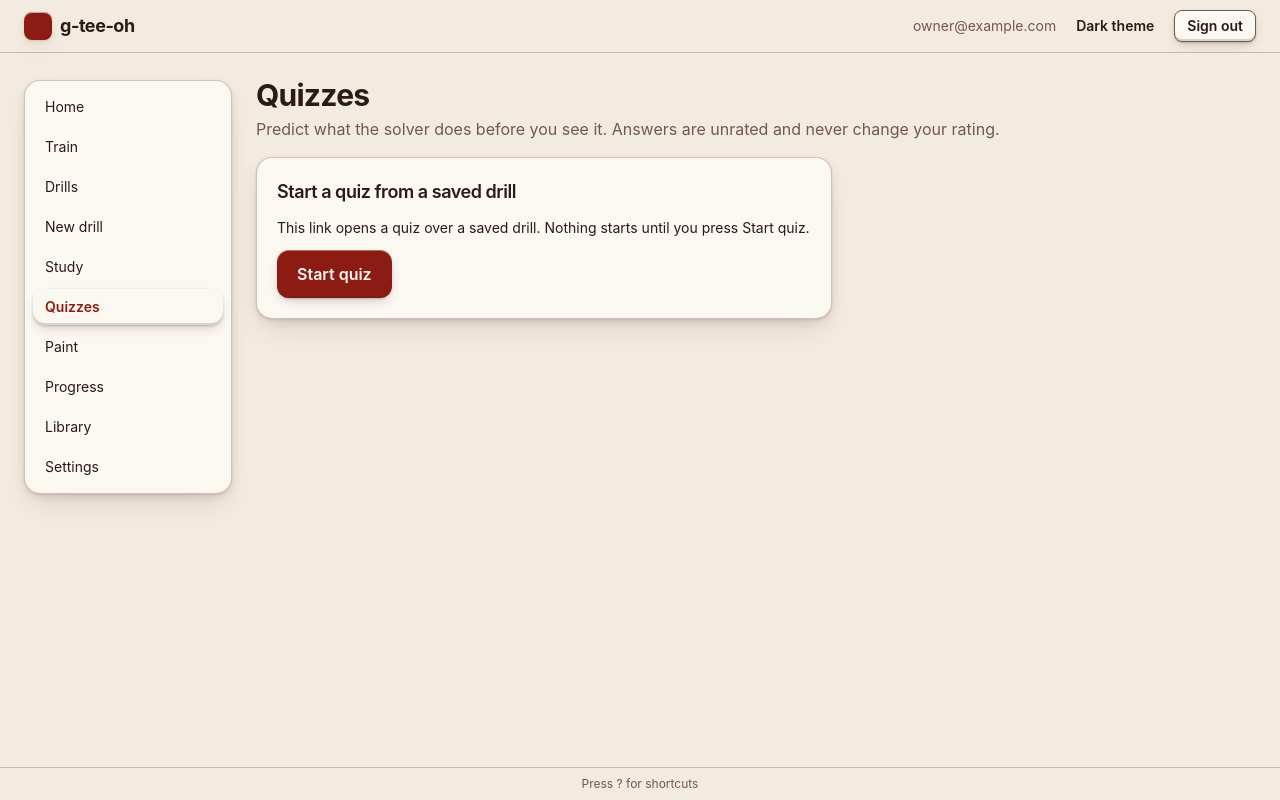
Test: R3.16 /quiz renders each answer kind › R3.16 yes or no: a level badge, the spot and Yes and No buttons
Click the button "Start quiz". click: coordinates (334, 274)
box: [277, 250, 392, 298]
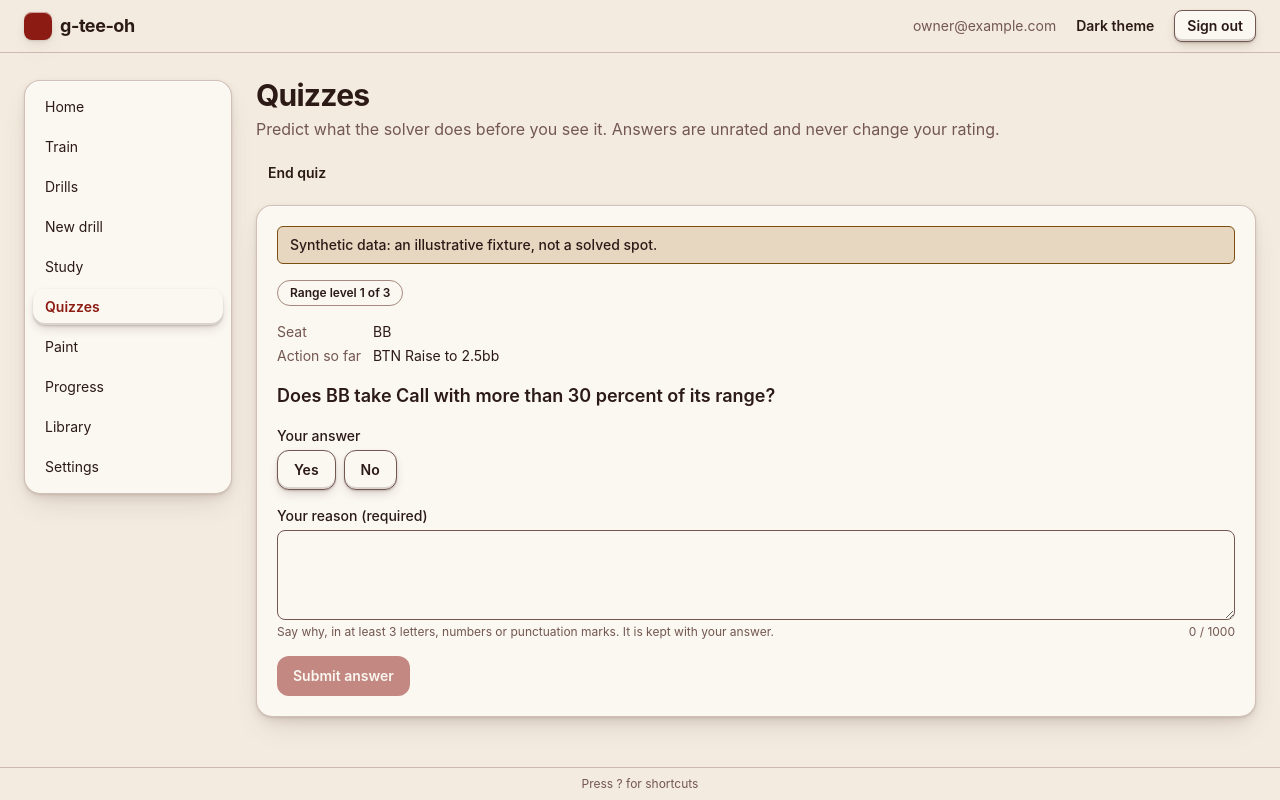
Expected: the text with test id "level-badge" reads "Range level 1 of 3", [290, 285, 390, 300]
Expected: the text "BTN Raise to 2.5bb" is shown, [373, 347, 499, 364]
Expected: the buttons read "Yes", "No", in this order, [277, 450, 336, 490]; [344, 450, 397, 490]
